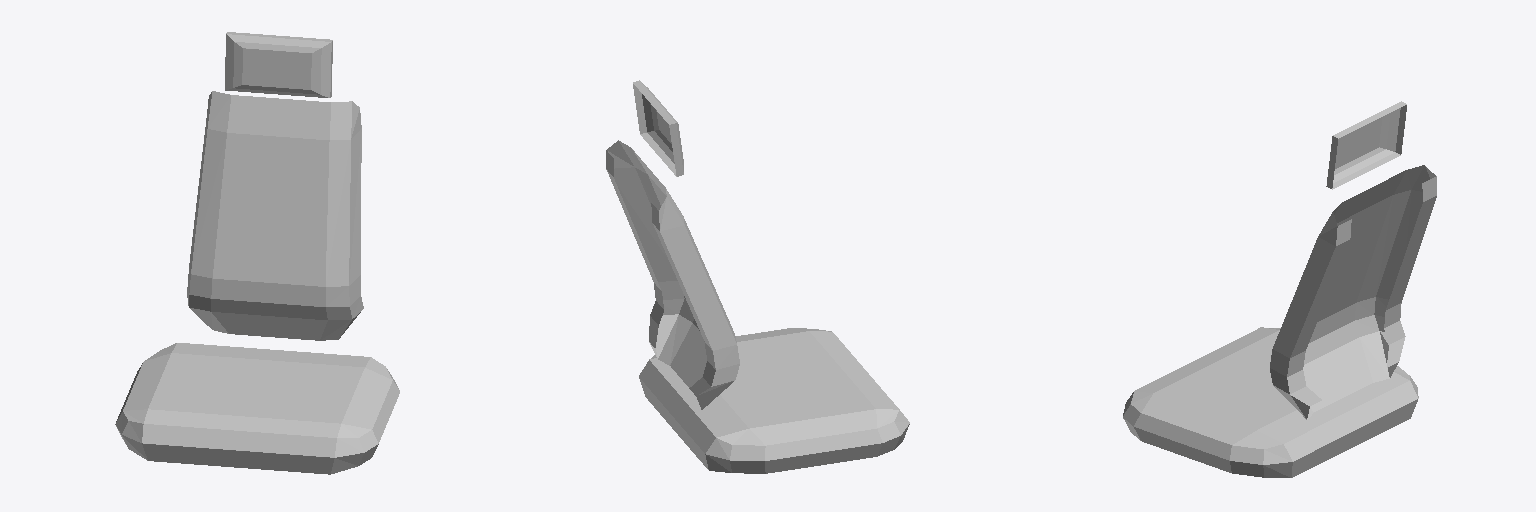
File: pechmesh1.obj
3 renders of one model, left to right at view 1: azimuth 30°, elevation 25°; view 2: azimuth 150°, elevation 25°; view 3: azimuth 270°, elevation 25°, orthographic.
Visible parts, largest first — view 1: model_12; view 2: model_12; view 3: model_12.
Boxes of the visible parts, x1,y1,x2,y2 form: model_12: [115, 32, 399, 474]; model_12: [606, 80, 909, 473]; model_12: [1123, 101, 1436, 477].
Bounding box in the file's own units: 2.11 × 2.56 × 2.15.